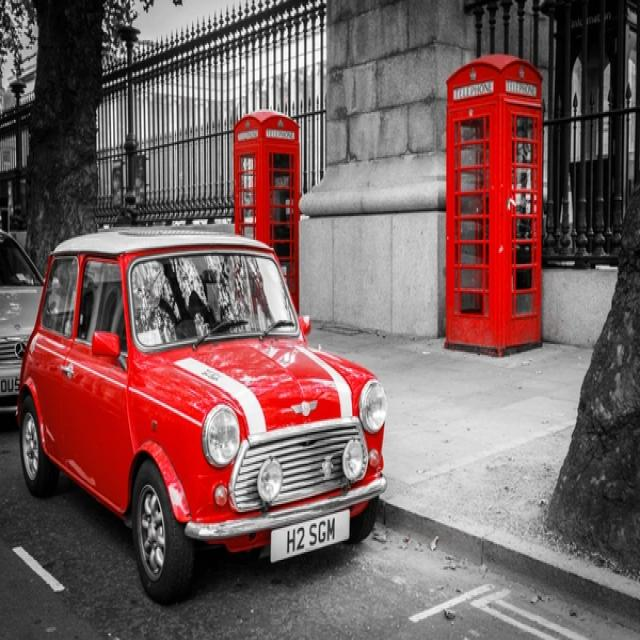mini: (288, 393, 321, 420)
